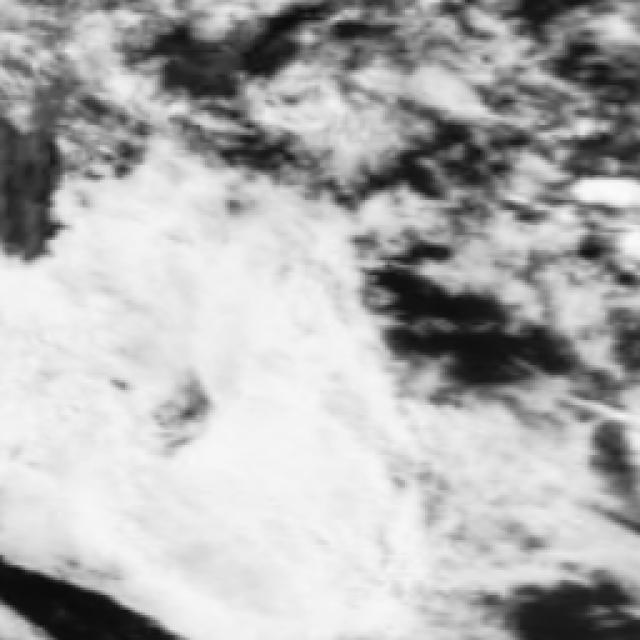CB: (234, 394, 389, 554), (116, 252, 289, 343)
